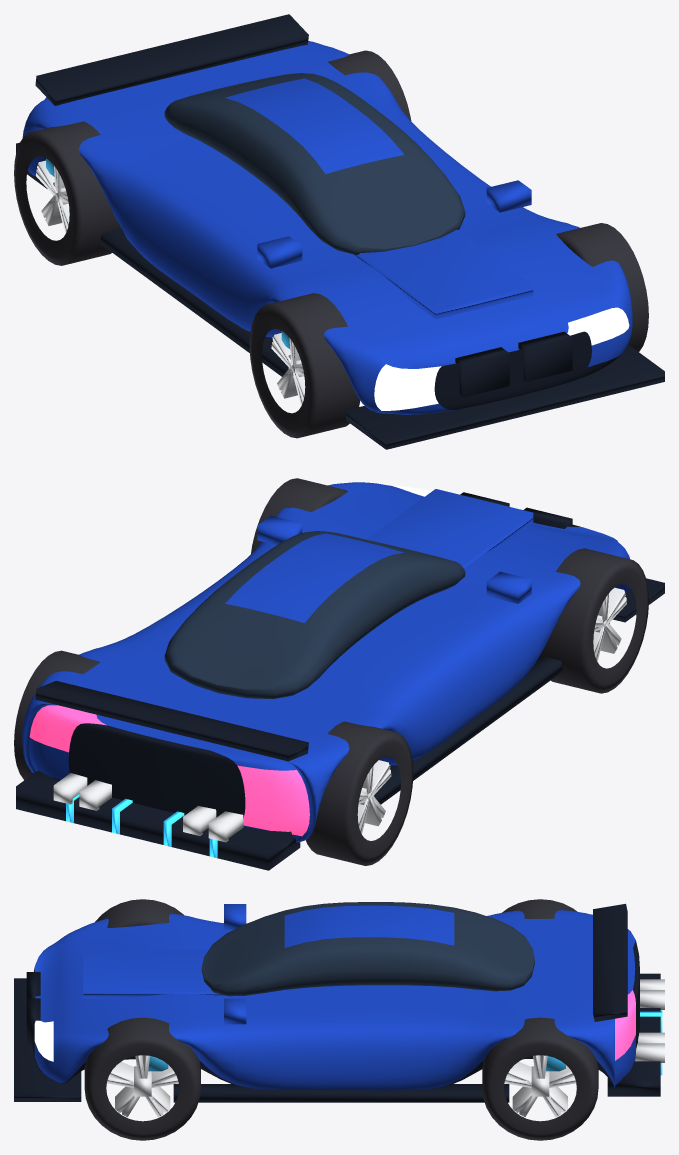
The model's file is sheher_m40.glb.
3 views of the same model, one above another, from view 1: azimuth 30°, elevation 25°; view 2: azimuth 150°, elevation 25°; view 3: azimuth 270°, elevation 25° (orthographic). The views are drawn at different scales.
Parts seen in each view (by area): view 1: Chassis, Wheel_FR, Wheel_RR, Wheel_FL, Wheel_RL; view 2: Chassis, Wheel_FR, Wheel_RR, Wheel_RL, Wheel_FL; view 3: Chassis, Wheel_FL, Wheel_RL, Wheel_FR, Wheel_RR.
Boxes of the visible parts, x1,y1,x2,y2 form: Chassis: (16,14,664,449); Wheel_FR: (249,293,360,438); Wheel_RR: (14,121,121,265); Wheel_FL: (556,223,648,351); Wheel_RL: (327,50,411,120); Chassis: (16,482,664,870); Wheel_FR: (539,548,648,693); Wheel_RR: (306,721,413,865); Wheel_RL: (14,650,100,780); Wheel_FL: (251,478,347,553); Chassis: (14,902,664,1102); Wheel_FL: (84,1017,200,1140); Wheel_RL: (482,1017,598,1140); Wheel_FR: (95,899,183,928); Wheel_RR: (502,899,577,919).
Bounding box in the file's own units: 2.34 × 1.2 × 4.65.
